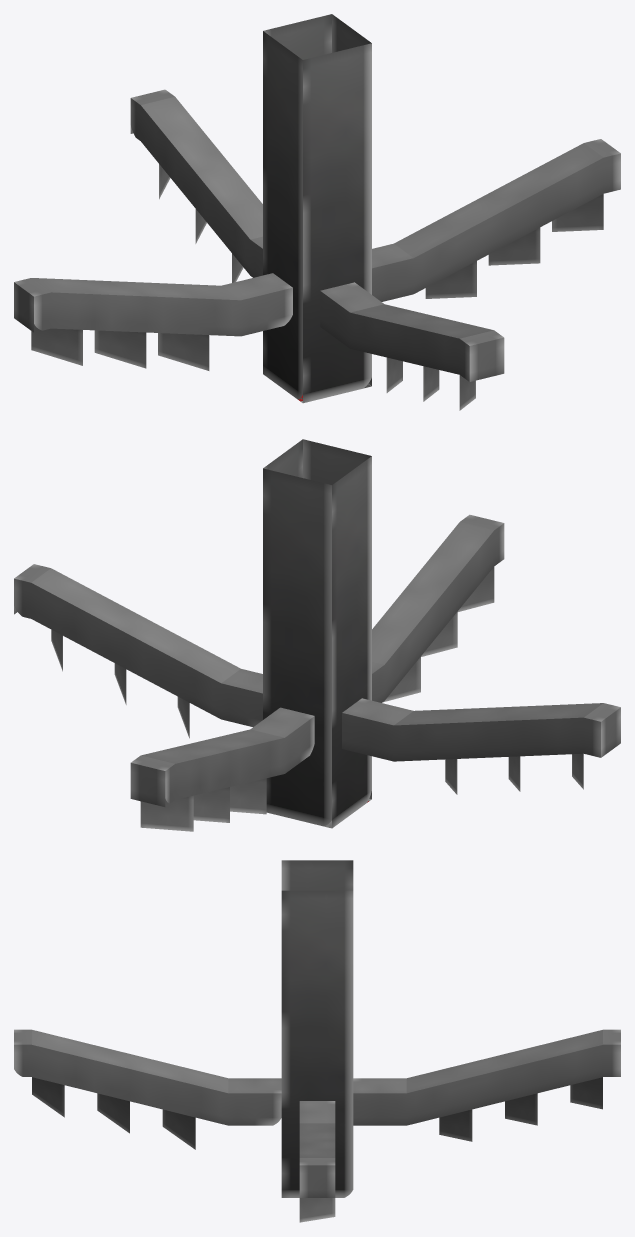
The model's file is thickener_1.obj.
3 views of the same model, one above another, from view 1: azimuth 30°, elevation 25°; view 2: azimuth 150°, elevation 25°; view 3: azimuth 270°, elevation 25° (orthographic). The views are drawn at different scales.
Parts seen in each view (by area): view 1: move.017; view 2: move.017; view 3: move.017.
Part boxes in pixels (x1=…): move.017: x1=14, y1=14, x2=620, y2=410; move.017: x1=14, y1=439, x2=620, y2=831; move.017: x1=14, y1=860, x2=620, y2=1222.
Size of the model in its own units: 2.12 by 1.19 by 2.12.
